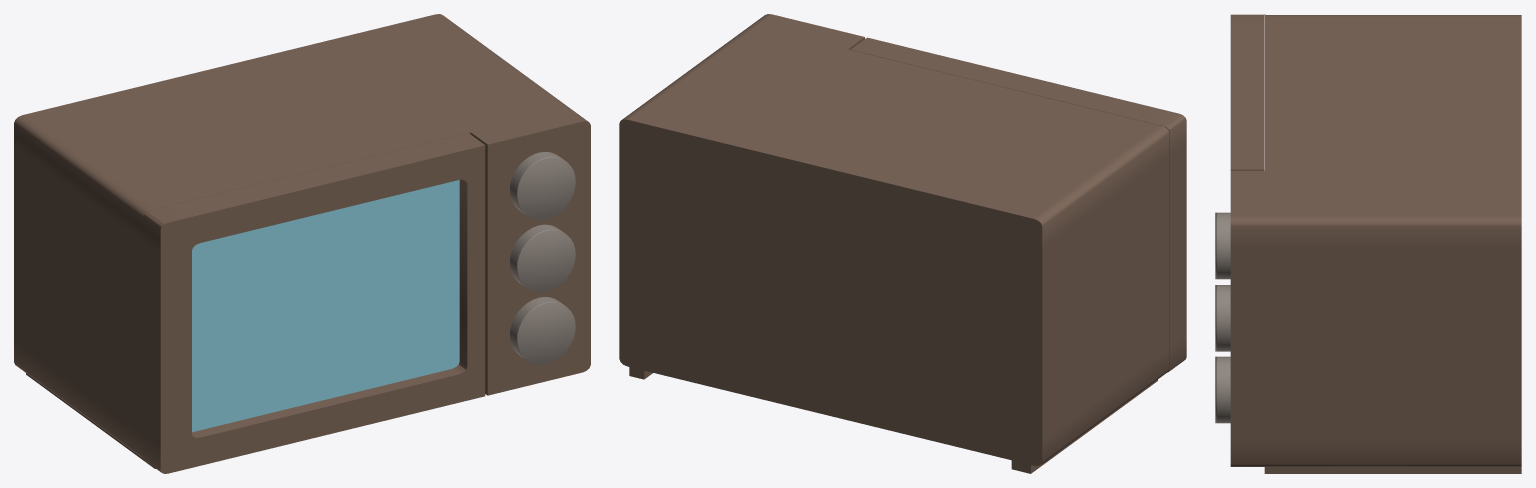
Rendered from microwave.fbx.
3 renders of one model, left to right at view 1: azimuth 30°, elevation 25°; view 2: azimuth 150°, elevation 25°; view 3: azimuth 270°, elevation 25°, orthographic.
Visible parts, largest first — view 1: Cube, Cube.001, Cylinder.002, Cylinder, Cylinder.001; view 2: Cube, Cube.001; view 3: Cube, Cube.001, Cylinder, Cylinder.002, Cylinder.001.
Boxes of the visible parts, x1,y1,x2,y2 form: Cube: (14,14,590,468); Cube.001: (143,133,485,473); Cylinder.002: (510,297,575,364); Cylinder: (510,152,575,219); Cylinder.001: (510,224,575,292); Cube: (619,14,1169,473); Cube.001: (851,37,1186,372); Cube: (1230,14,1521,473); Cube.001: (1230,14,1264,170); Cylinder: (1215,212,1230,279); Cylinder.002: (1215,356,1230,423); Cylinder.001: (1215,285,1230,351).
Size of the model in its own units: 453 by 262 by 282.
Materials: 1 (1 with a texture image).
